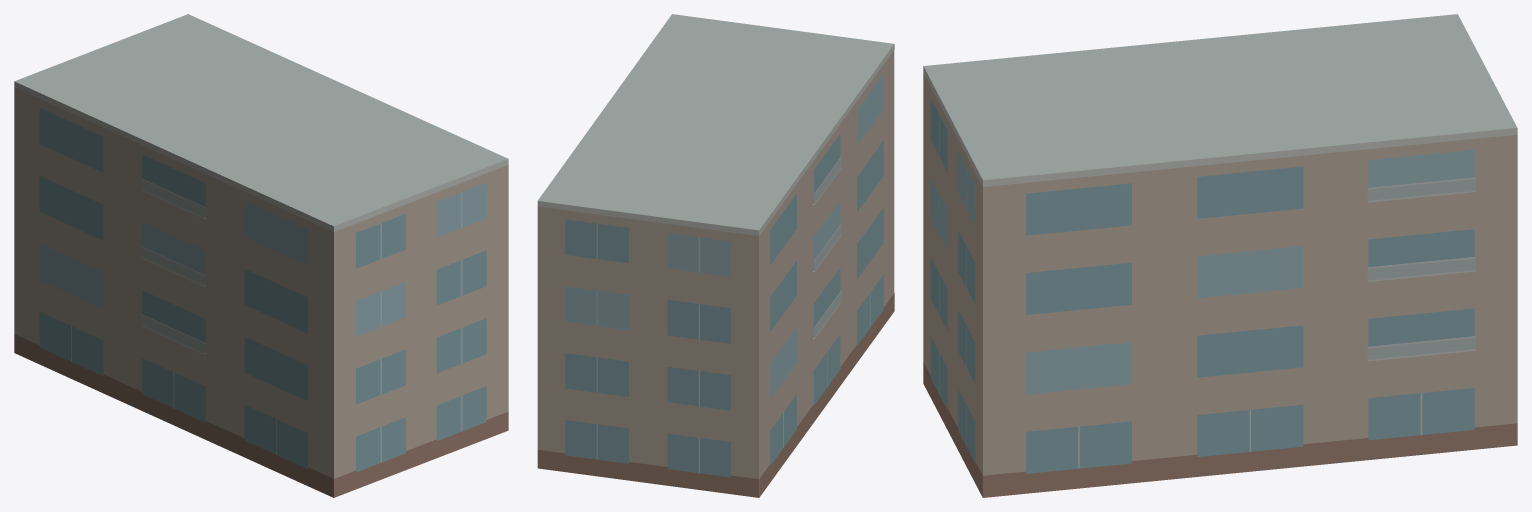
The model's file is survey-upis-32799213.glb.
3 views of the same model, side by side, from view 1: azimuth 30°, elevation 25°; view 2: azimuth 150°, elevation 25°; view 3: azimuth 270°, elevation 25° (orthographic). The views are drawn at different scales.
Parts seen in each view (by area): view 1: survey-upis-32799213.tmp; view 2: survey-upis-32799213.tmp; view 3: survey-upis-32799213.tmp.
Part boxes in pixels (box(x1,y1,x2,y2)): survey-upis-32799213.tmp: box(14, 14, 508, 497); survey-upis-32799213.tmp: box(537, 14, 894, 497); survey-upis-32799213.tmp: box(923, 14, 1517, 497).
Bounding box in the file's own units: 12.92 × 11.5 × 19.51.
